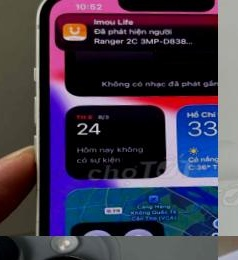scratch: (0, 236, 104, 260)
